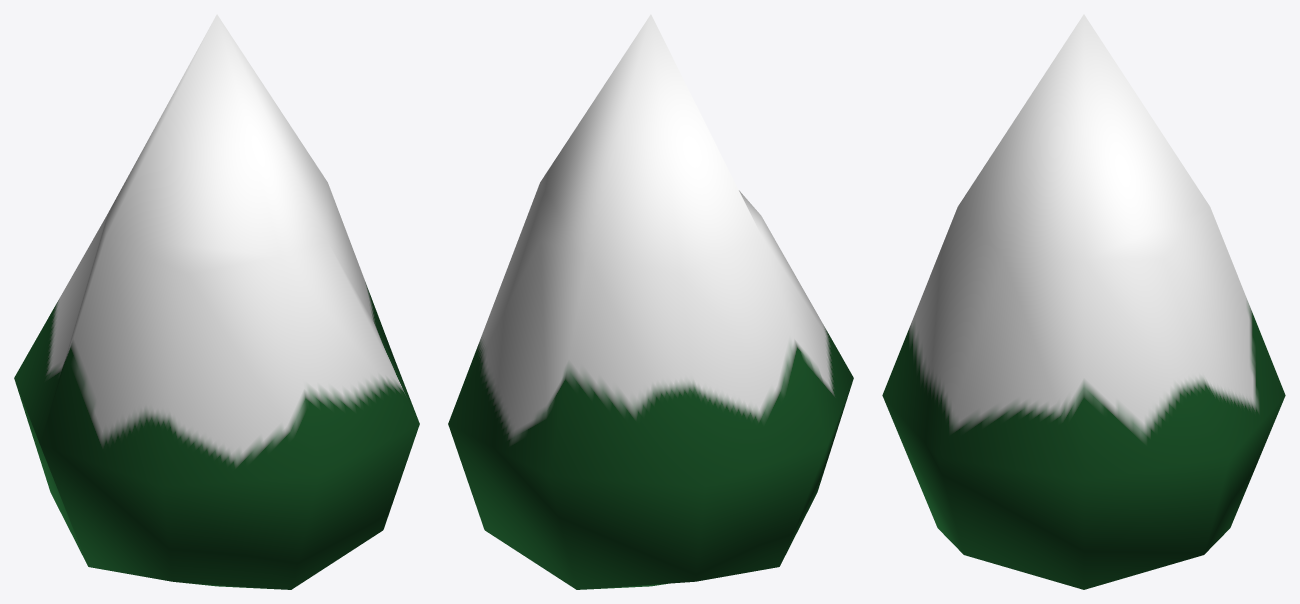
File: ARBRE.goutte.glb
3 views of the same model, side by side, from view 1: azimuth 30°, elevation 25°; view 2: azimuth 150°, elevation 25°; view 3: azimuth 270°, elevation 25° (orthographic).
Parts seen in each view (by area): view 1: ARBRE.goutte; view 2: ARBRE.goutte; view 3: ARBRE.goutte.
Boxes of the visible parts, x1=… form: ARBRE.goutte: x1=14, y1=14, x2=419, y2=589; ARBRE.goutte: x1=448, y1=14, x2=853, y2=589; ARBRE.goutte: x1=882, y1=14, x2=1285, y2=589.
Bounding box in the file's own units: 0.6671 × 1.03 × 0.6671.
1 material, 1 textured.
